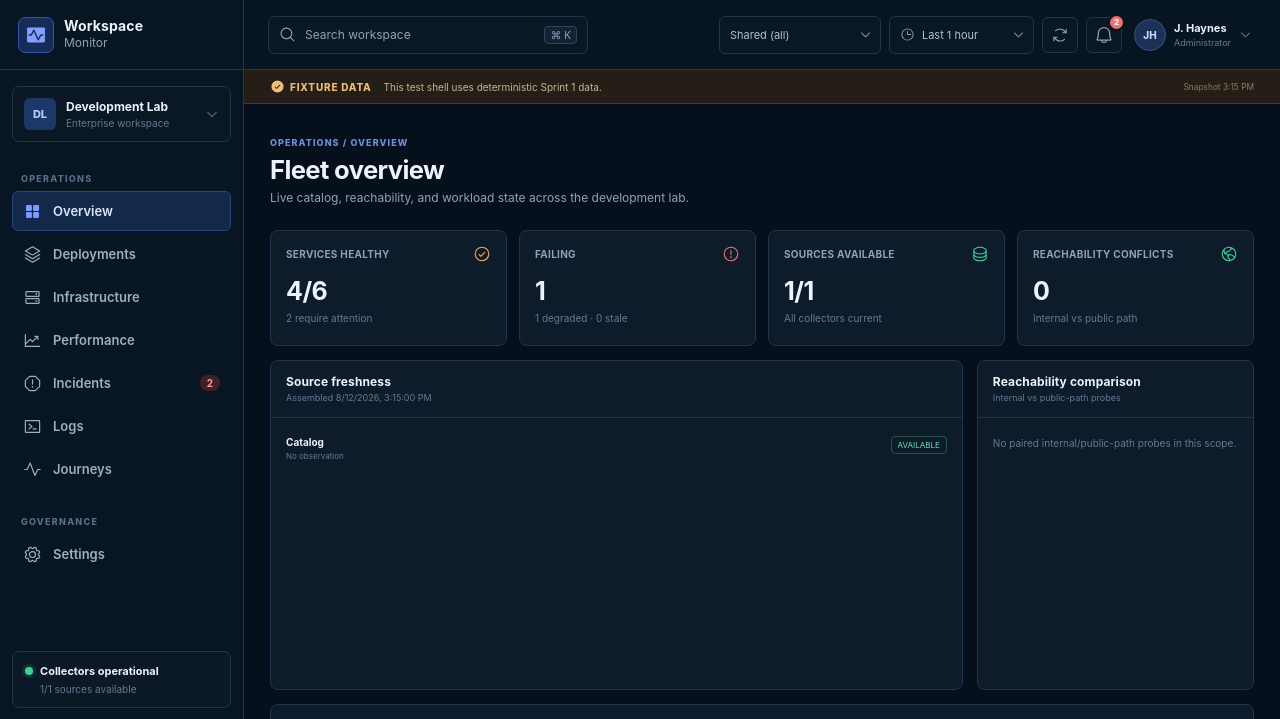
Test case: enterprise application shell › reports a rejected logout without navigating away
Expected: the heading "Fleet overview" is shown, [270,154,444,185]
Click the button with aria-label "Open operator menu": x=1193, y=34 [1130,14,1256,54]
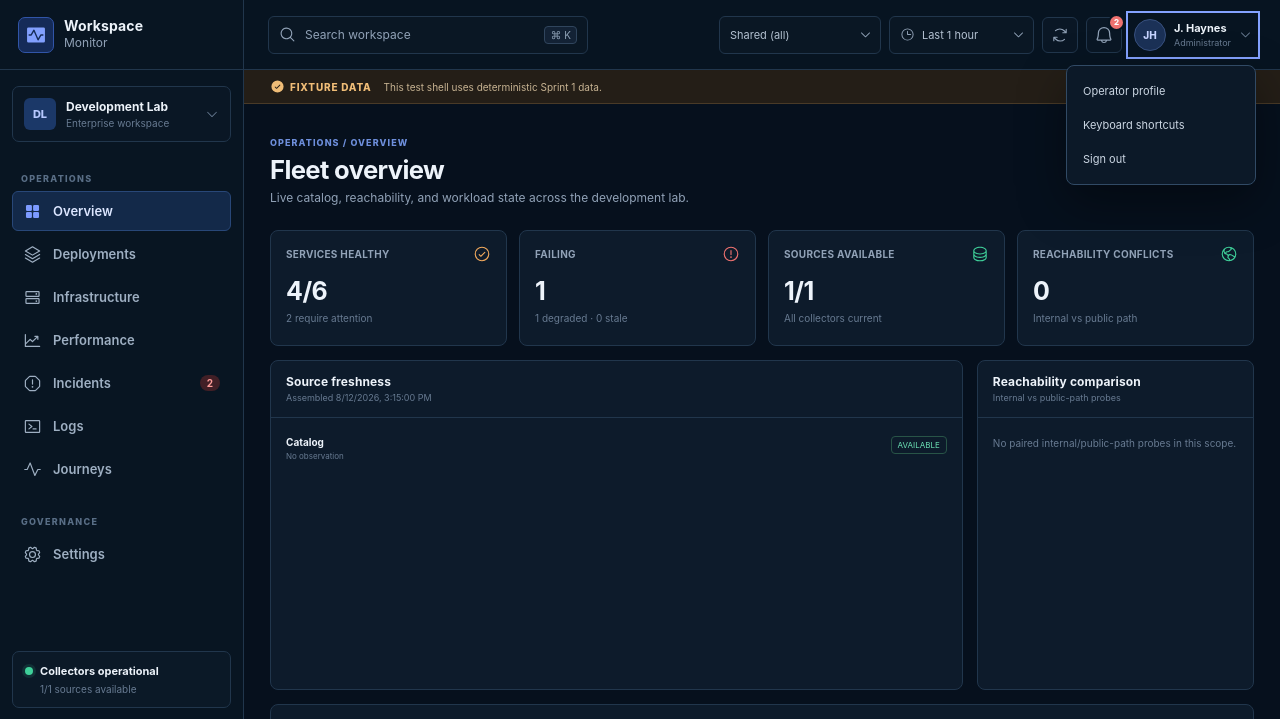
Click the button "Sign out": x=1161, y=158 [1075,142,1247,176]
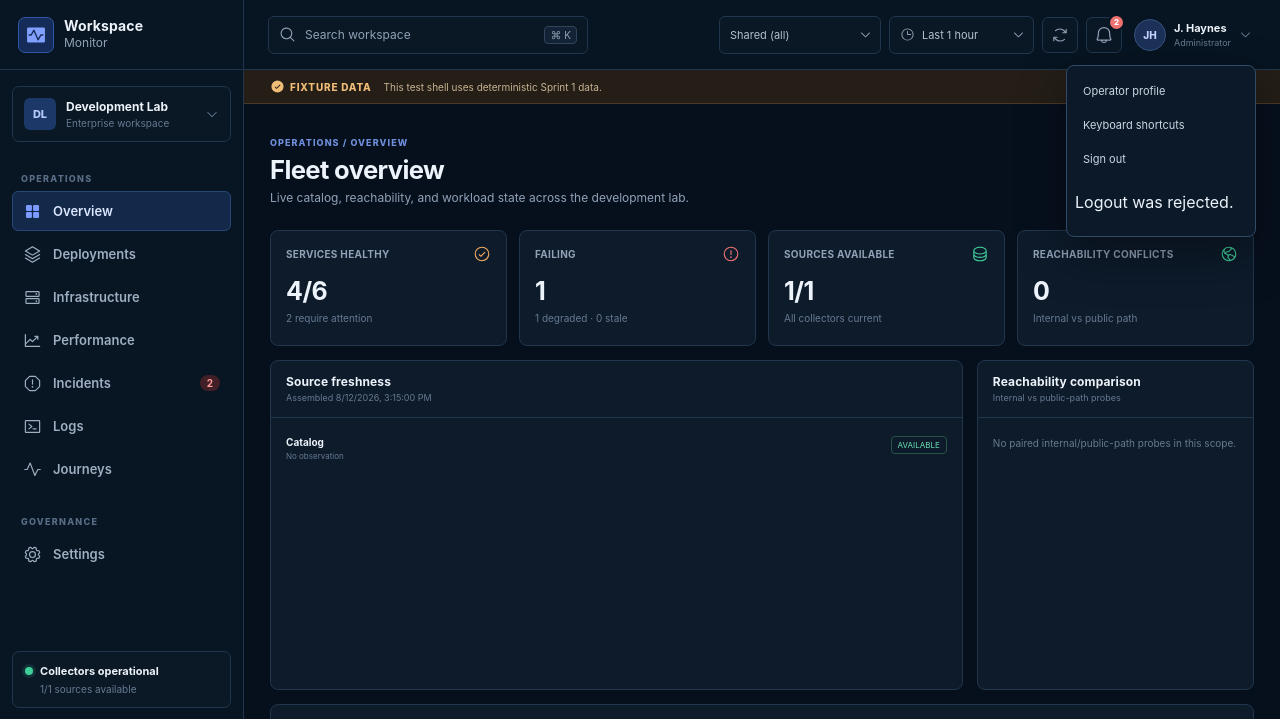
Now the message "Logout was rejected." is shown, box [1075,192,1247,212]
